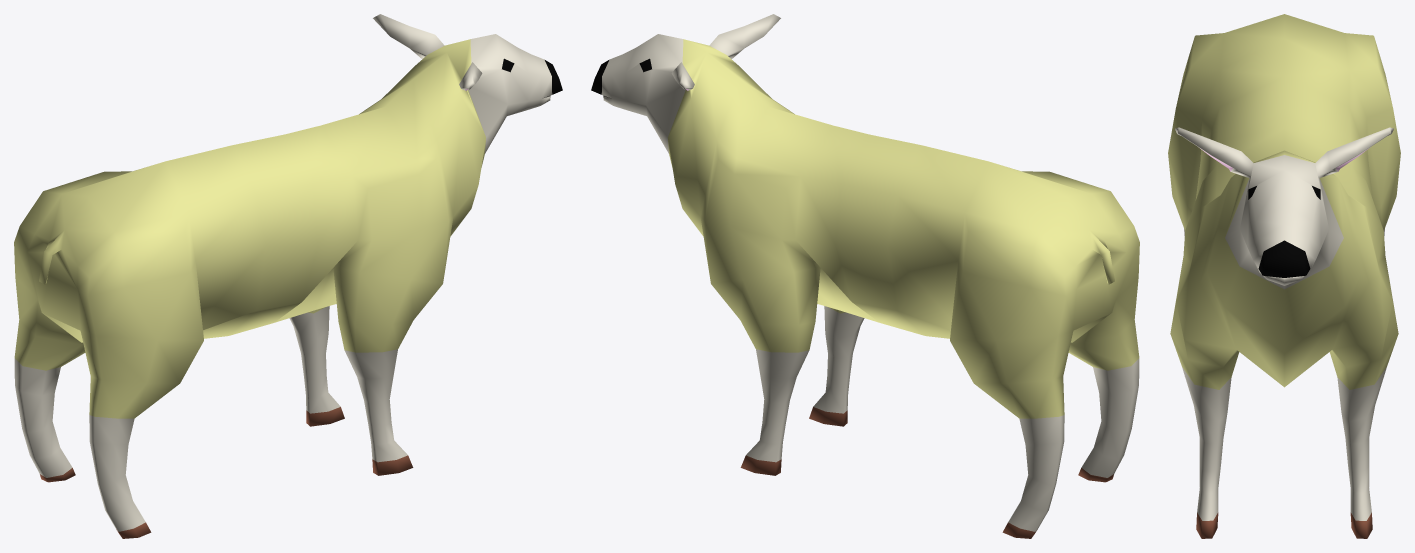
The model's file is sheep.glb.
3 renders of one model, left to right at view 1: azimuth 30°, elevation 25°; view 2: azimuth 150°, elevation 25°; view 3: azimuth 270°, elevation 25°, orthographic. The views are drawn at different scales.
Visible parts, largest first — view 1: Cube.037; view 2: Cube.037; view 3: Cube.037.
Part boxes in pixels (<box>): Cube.037: <box>14,14,562,538</box>; Cube.037: <box>591,14,1139,538</box>; Cube.037: <box>1168,14,1400,538</box>.
Bounding box in the file's own units: 0.8441 × 0.5963 × 0.2867.
